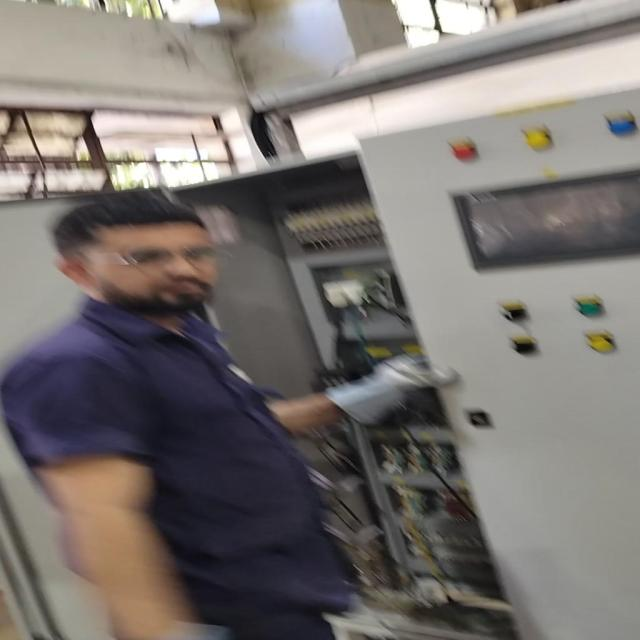Gloves-Detection: (313, 344, 429, 416)
